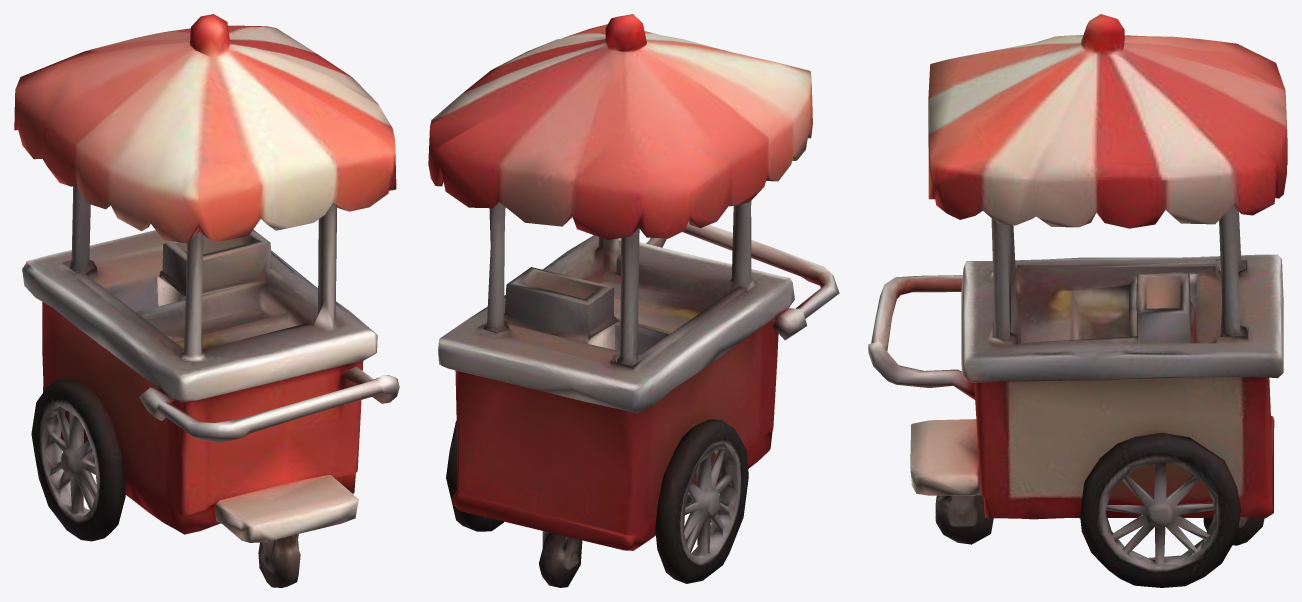
Rendered from hotdog.glb.
3 views of the same model, side by side, from view 1: azimuth 30°, elevation 25°; view 2: azimuth 150°, elevation 25°; view 3: azimuth 270°, elevation 25° (orthographic).
Visible parts, largest first — view 1: tripo_node_01a21d81-8784-76ab-9c2d-483a245d112a; view 2: tripo_node_01a21d81-8784-76ab-9c2d-483a245d112a; view 3: tripo_node_01a21d81-8784-76ab-9c2d-483a245d112a.
Part boxes in pixels (box(x1,y1,x2,y2)): tripo_node_01a21d81-8784-76ab-9c2d-483a245d112a: box(14, 14, 399, 587); tripo_node_01a21d81-8784-76ab-9c2d-483a245d112a: box(428, 14, 839, 587); tripo_node_01a21d81-8784-76ab-9c2d-483a245d112a: box(868, 14, 1287, 587).
Bounding box in the file's own units: 1.06 × 1.9 × 1.38.
Materials: 1 (1 with a texture image).
